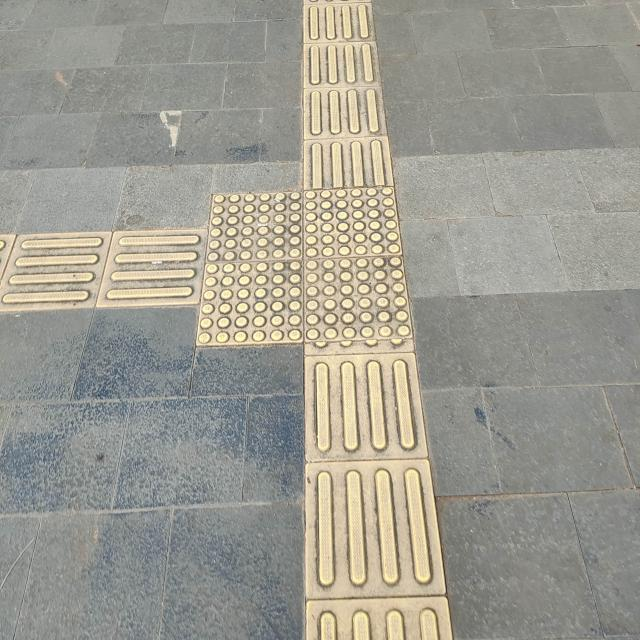lurus: (291, 347, 462, 640), (282, 0, 381, 197)
